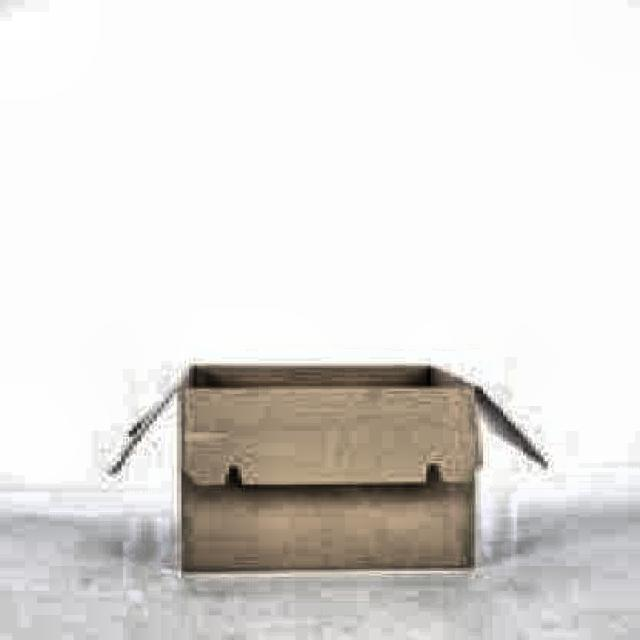Cardbox: (88, 341, 575, 597)
